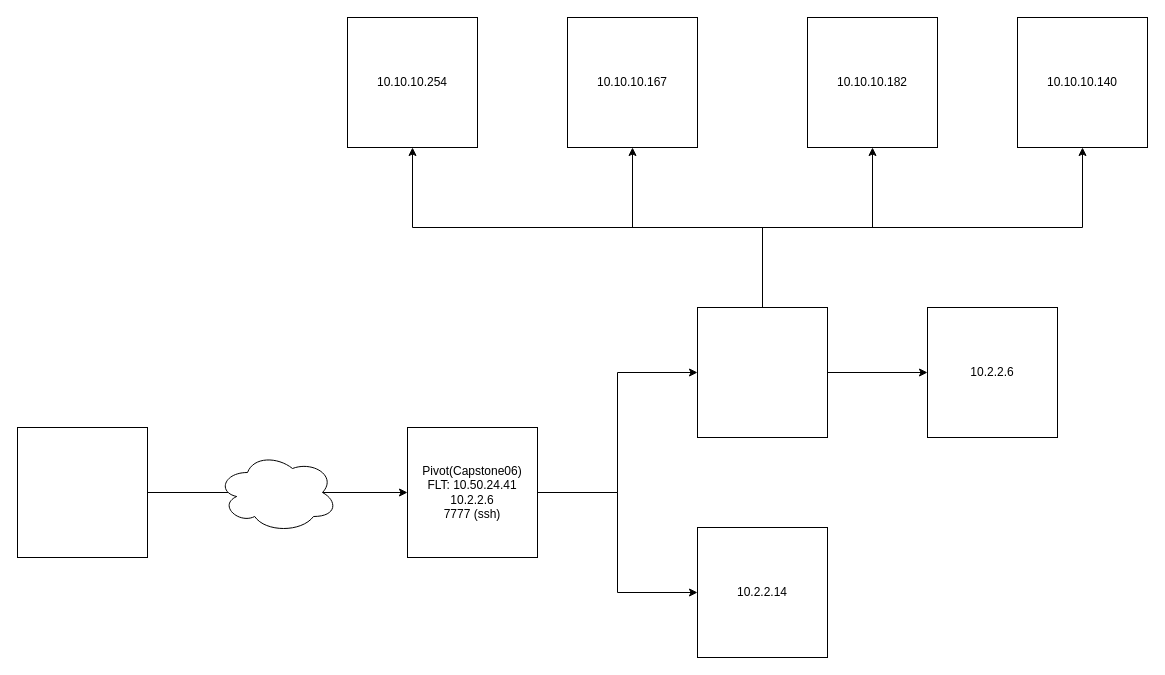
The diagram is 1165 pixels wide and 675 high, and some of its shapes have lost their labels. Here are the shapes that lost their labels. From the top down, the centre of each, then its label:
At point 762,372: "Capstone 07 10.2.2.7 23,80,2222?(ssh) Pass: Netflix and Chill".
At point 82,492: "Ihost 10.0.0.40".
